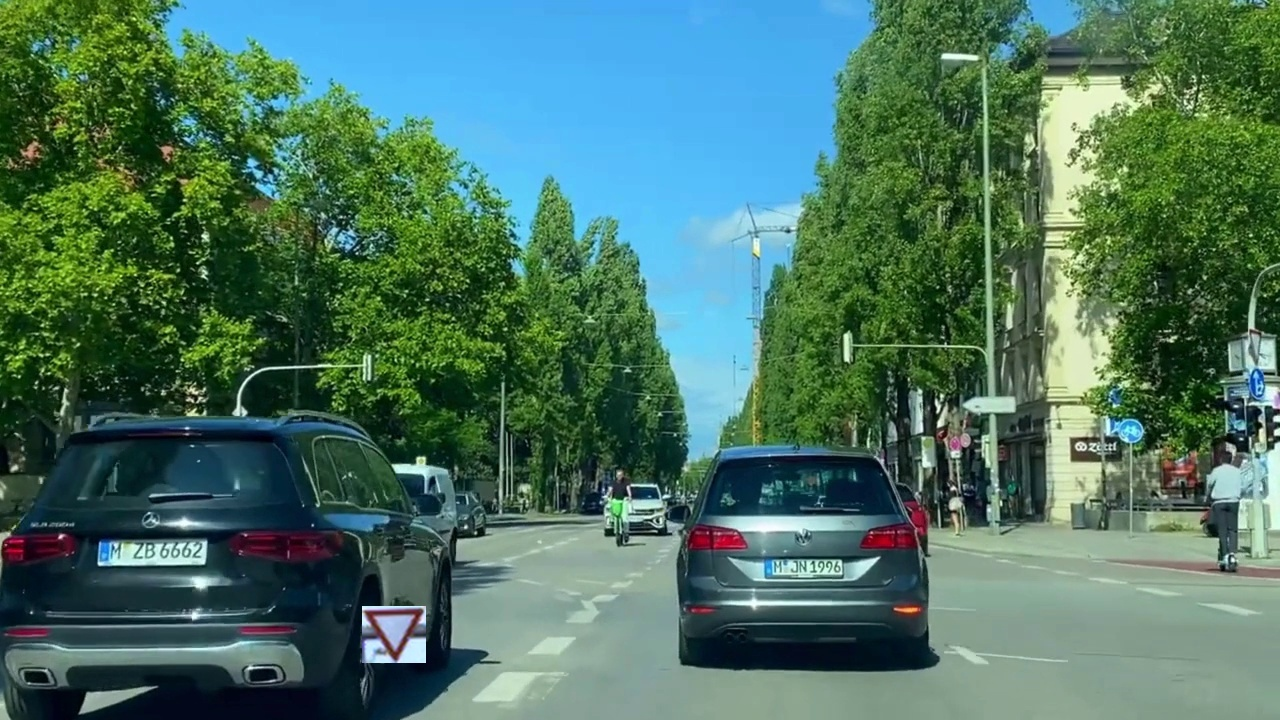Yield: (362, 606, 426, 663)
